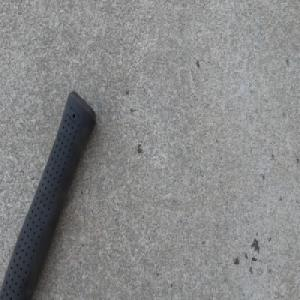Hammer: (0, 89, 98, 300)
